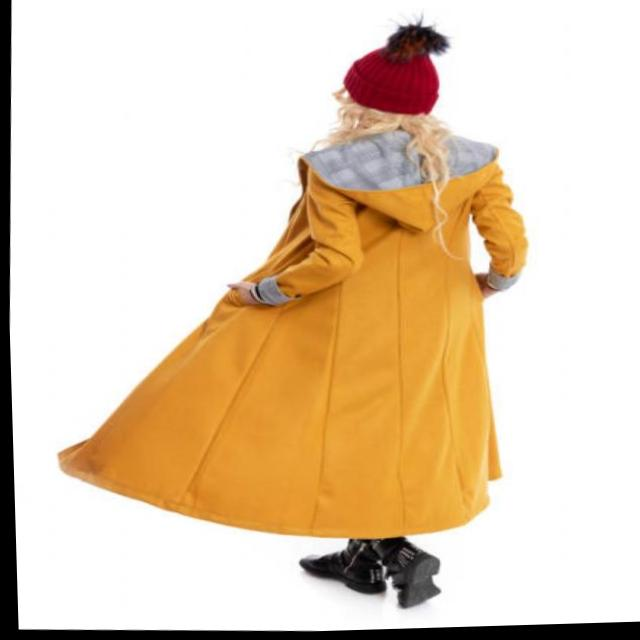no helmet: (317, 22, 477, 143)
